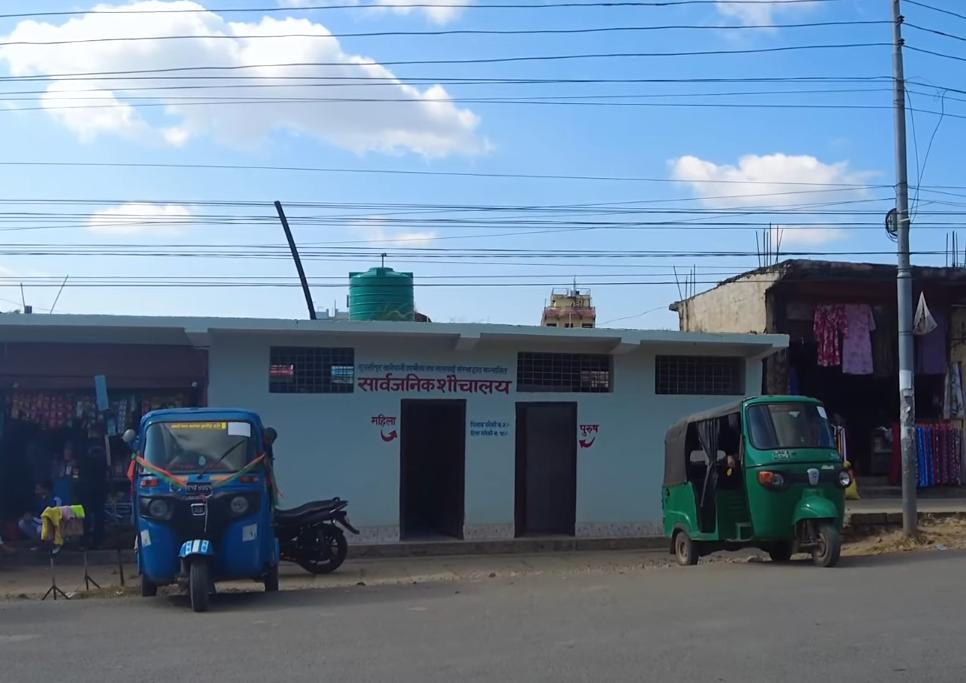auto_rickshaw: (652, 389, 854, 578), (119, 398, 290, 617)
